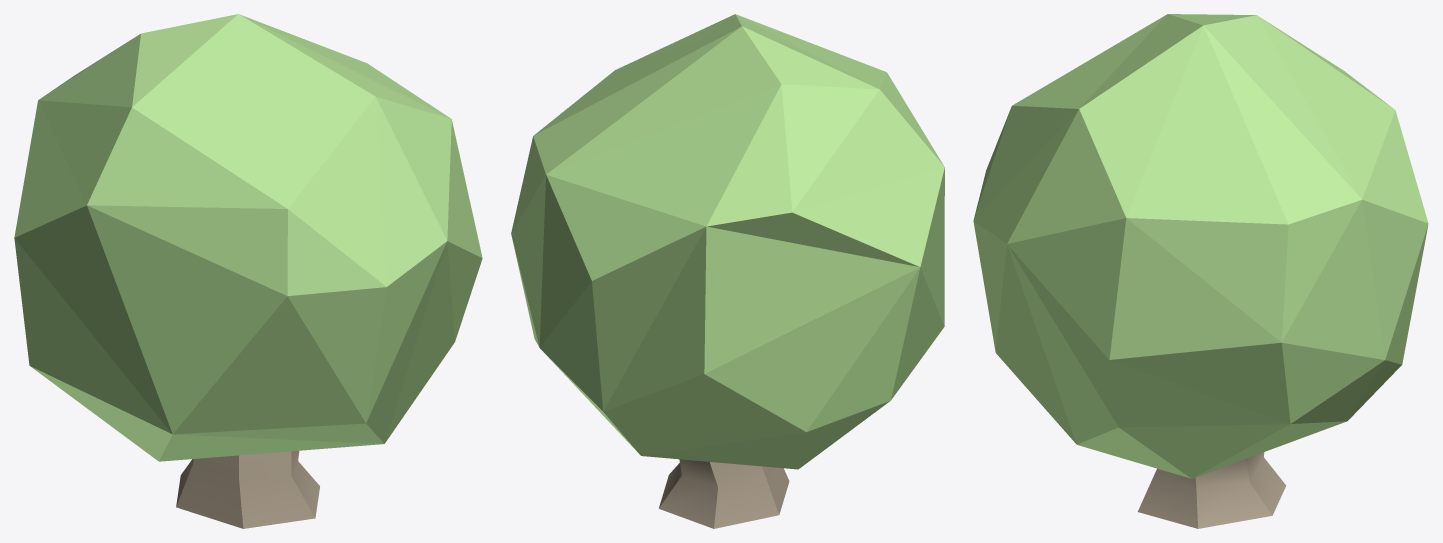
Rendered from Bush.fbx.
The picture shows the model from 3 angles, left to right: view 1: azimuth 30°, elevation 25°; view 2: azimuth 150°, elevation 25°; view 3: azimuth 270°, elevation 25°; orthographic projection. The views are drawn at different scales.
Parts seen in each view (by area): view 1: pSphere1; view 2: pSphere1; view 3: pSphere1.
Boxes of the visible parts, x1,y1,x2,y2 form: pSphere1: [14, 14, 482, 528]; pSphere1: [511, 14, 944, 528]; pSphere1: [973, 14, 1428, 528].
Size of the model in its own units: 1.06 by 1.23 by 1.09.
2 materials, 2 textured.
